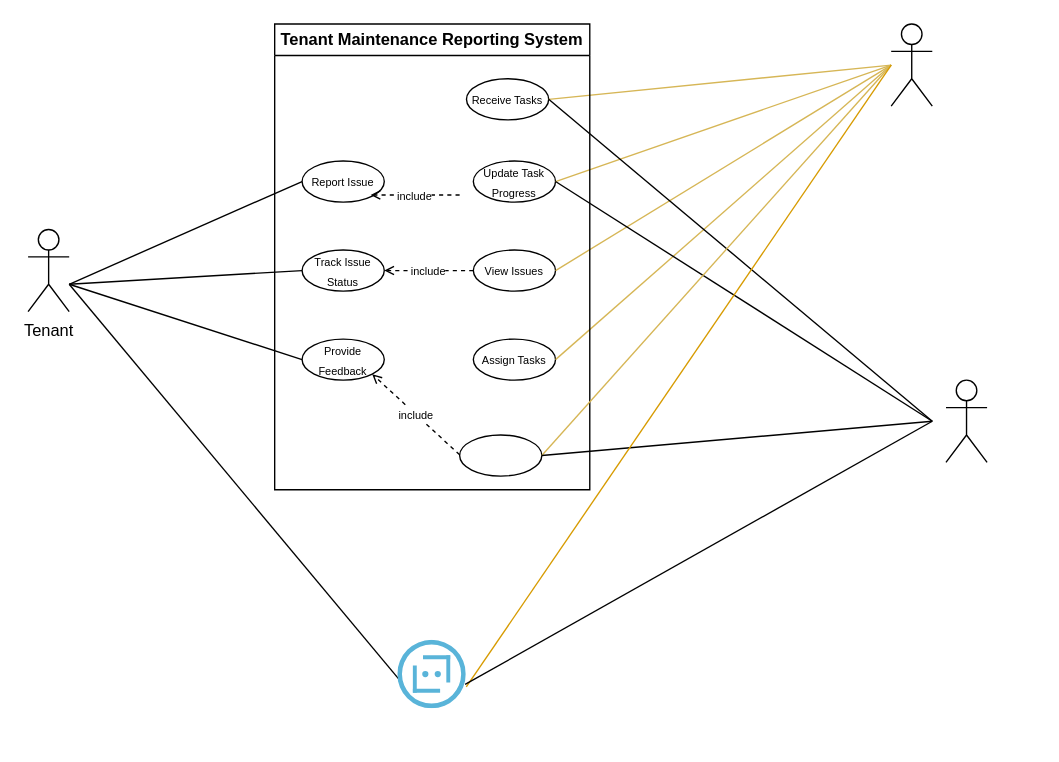
The diagram is 1059 pixels wide and 762 high, and some of its shapes have lost their labels. Each missing label, with the centre of its shape:
"interactive AI" belongs at (x=431, y=674).
"Maintenance Team" belongs at (x=966, y=420).
"Property Manager" belongs at (x=911, y=64).
"view Feedback" belongs at (x=500, y=455).
